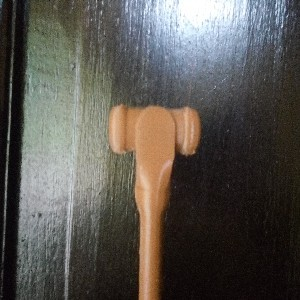palu: (108, 105, 201, 300)
